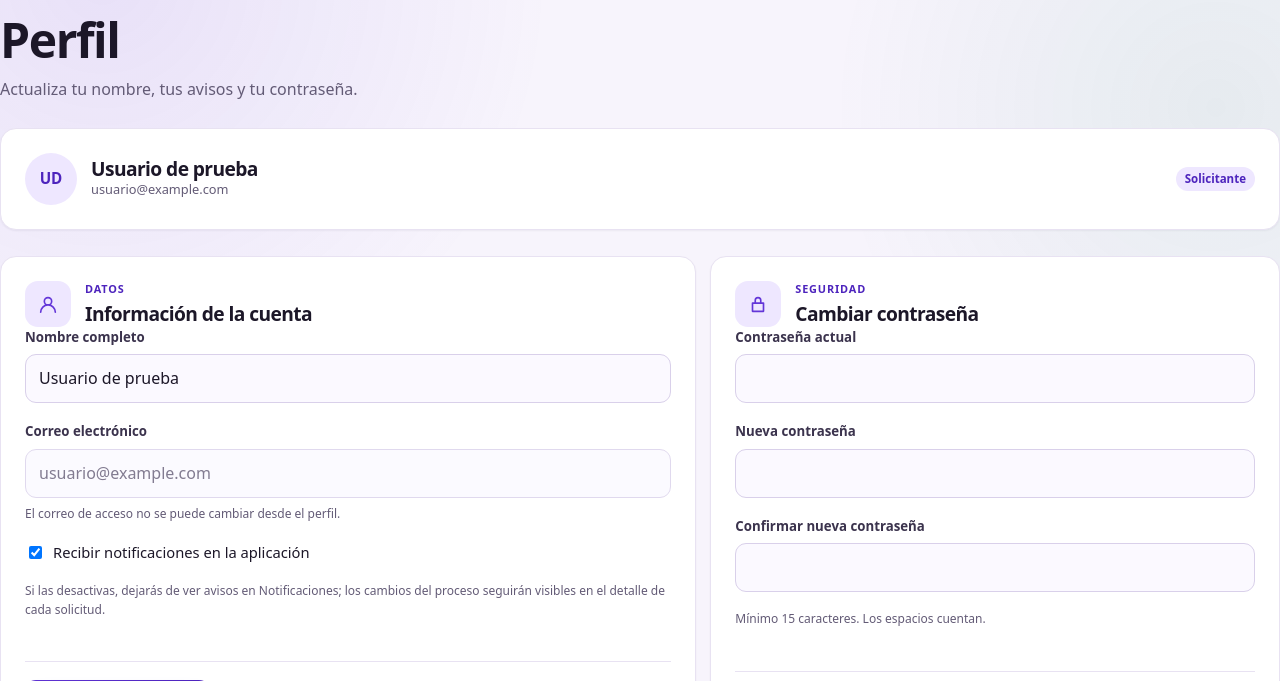
Test: ProfilePage › impide cambiar la contraseña si la confirmación no coincide
Expected: the heading "Perfil" is shown, [0, 7, 120, 72]
Type "Actual segura 2026!" into the password field labelled "Contraseña actual" at (995, 379), box [735, 354, 1255, 403]
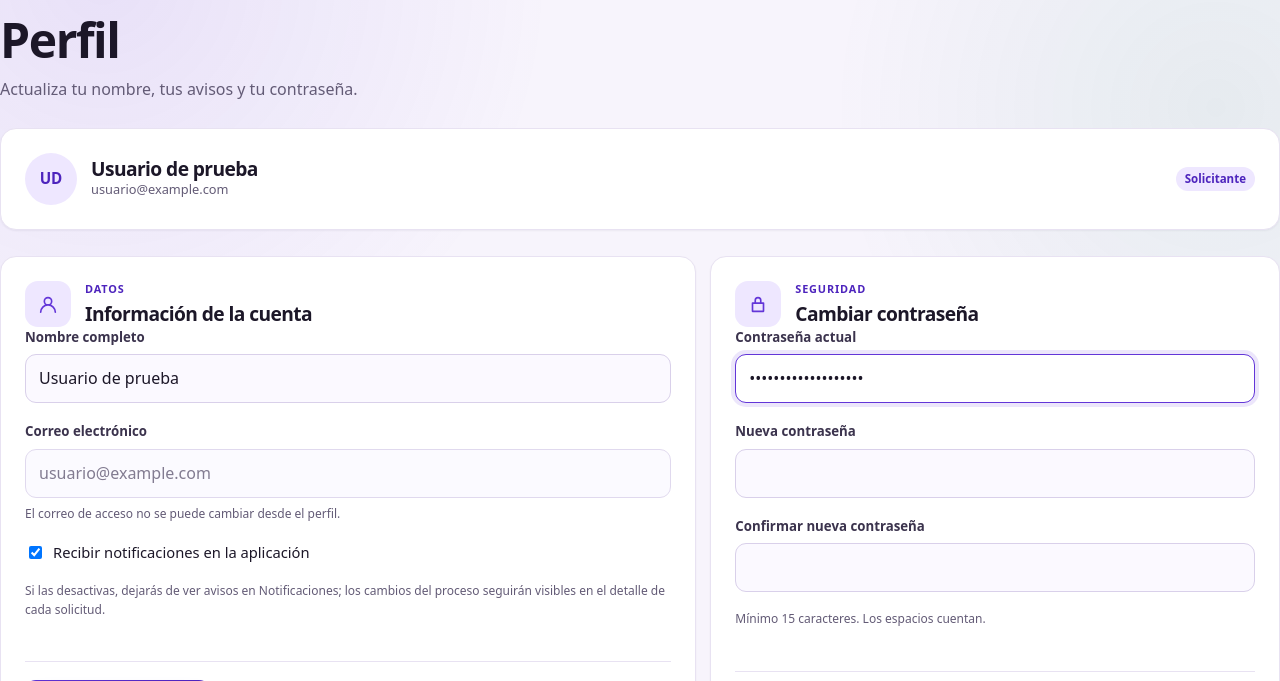
Type "Nueva segura 2026!" into the password field labelled "Nueva contraseña" at (995, 473), box [735, 449, 1255, 498]
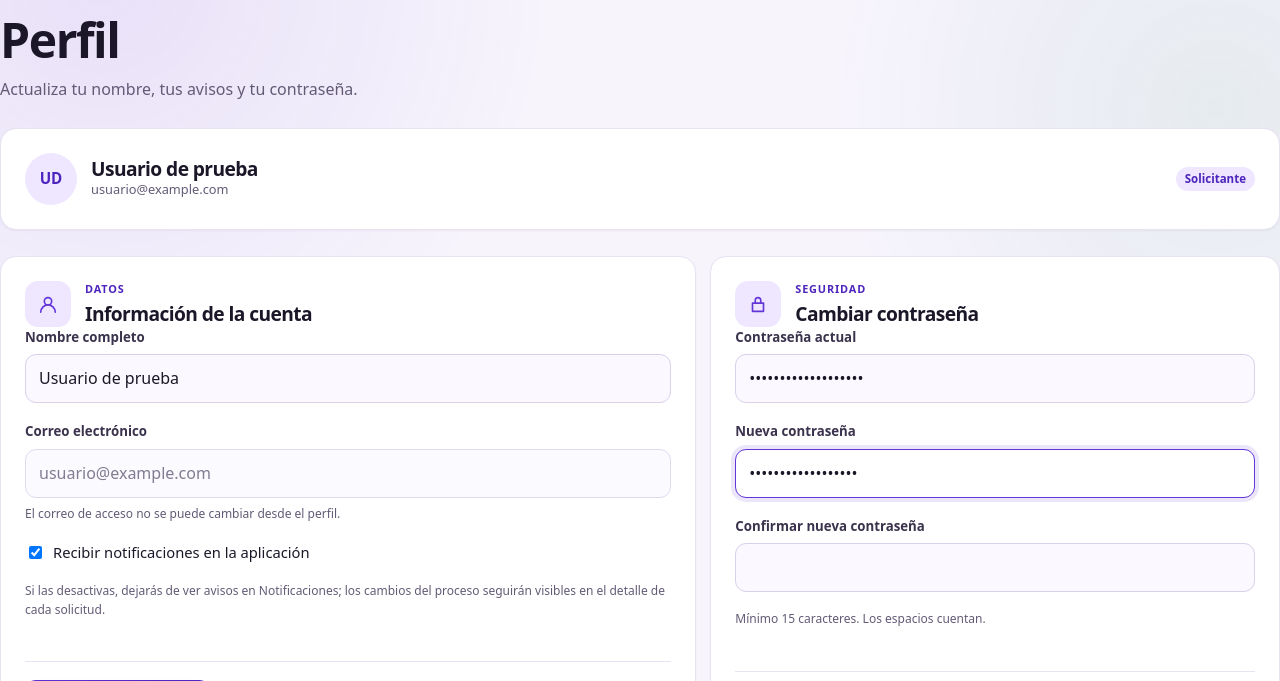
Type "Otra distinta 2026!" into the password field labelled "Confirmar nueva contraseña" at (995, 568), box [735, 543, 1255, 592]
(page scrolled)
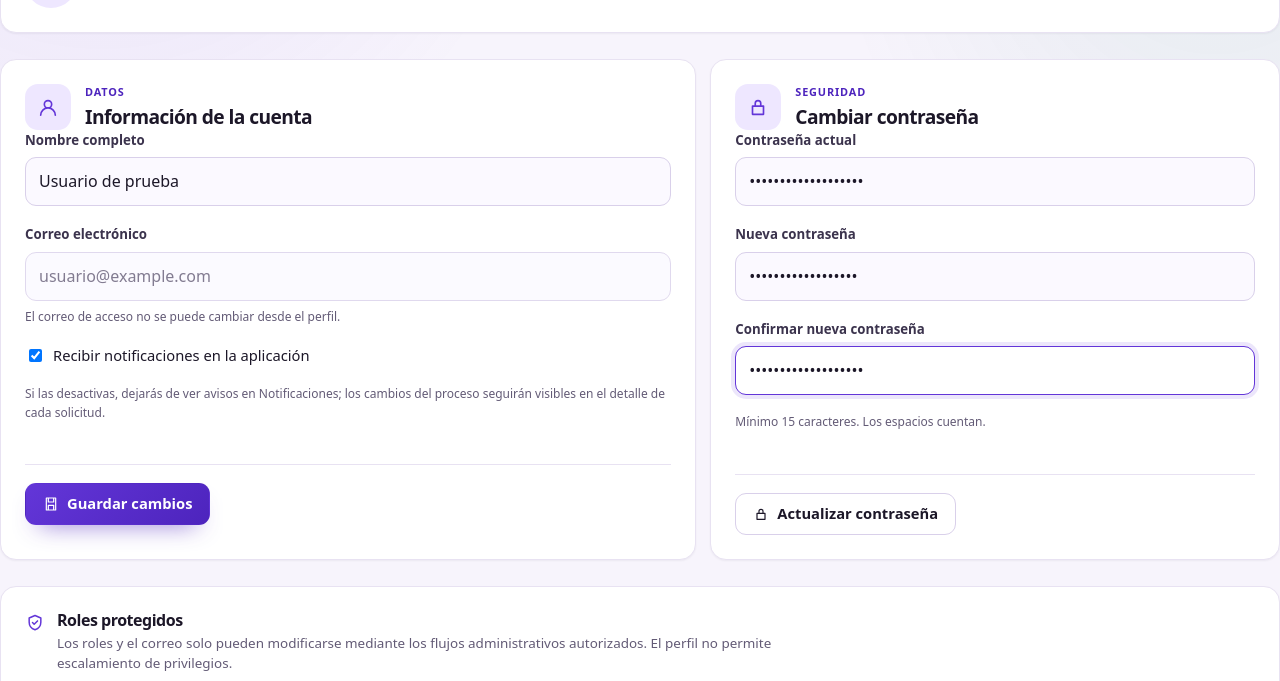
Click the button "Actualizar contraseña" at (846, 514), box [735, 492, 956, 534]
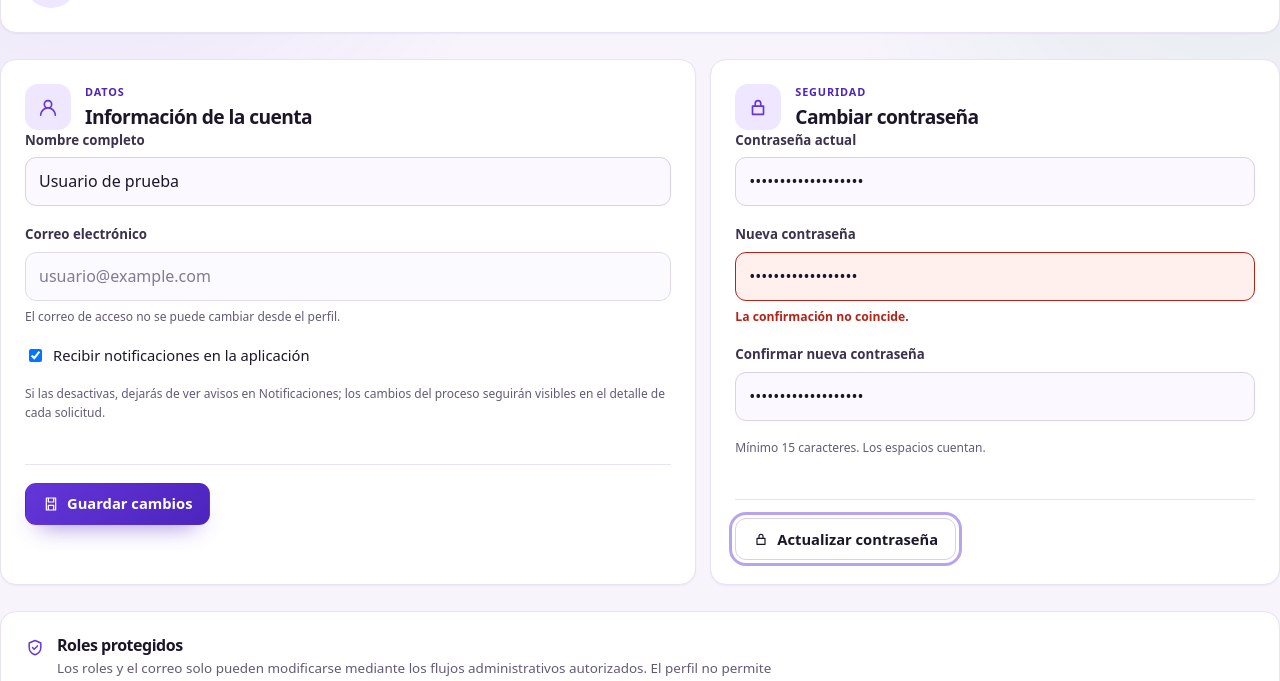
Expected: the text "La confirmación no coincide." is shown, [735, 308, 909, 325]
